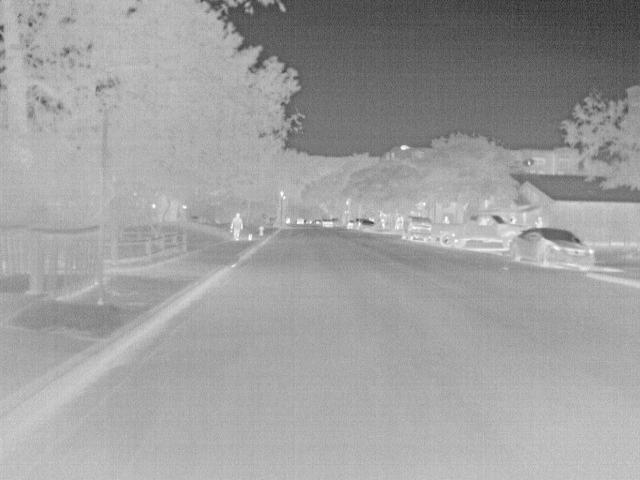car: (510, 228, 596, 272), (432, 212, 528, 249), (403, 216, 435, 242), (358, 220, 379, 234), (321, 218, 335, 230), (346, 220, 359, 230)
person: (228, 210, 245, 243), (531, 216, 546, 228), (439, 214, 452, 225)
